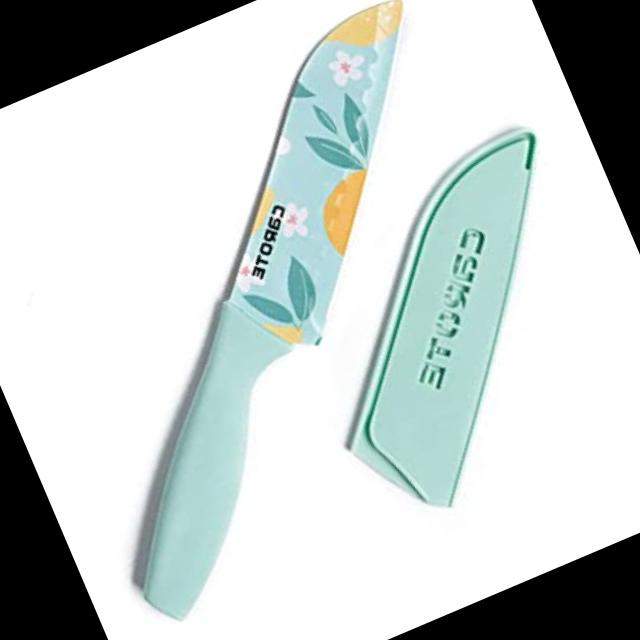Weapon: (0, 0, 596, 635), (250, 115, 640, 552)
